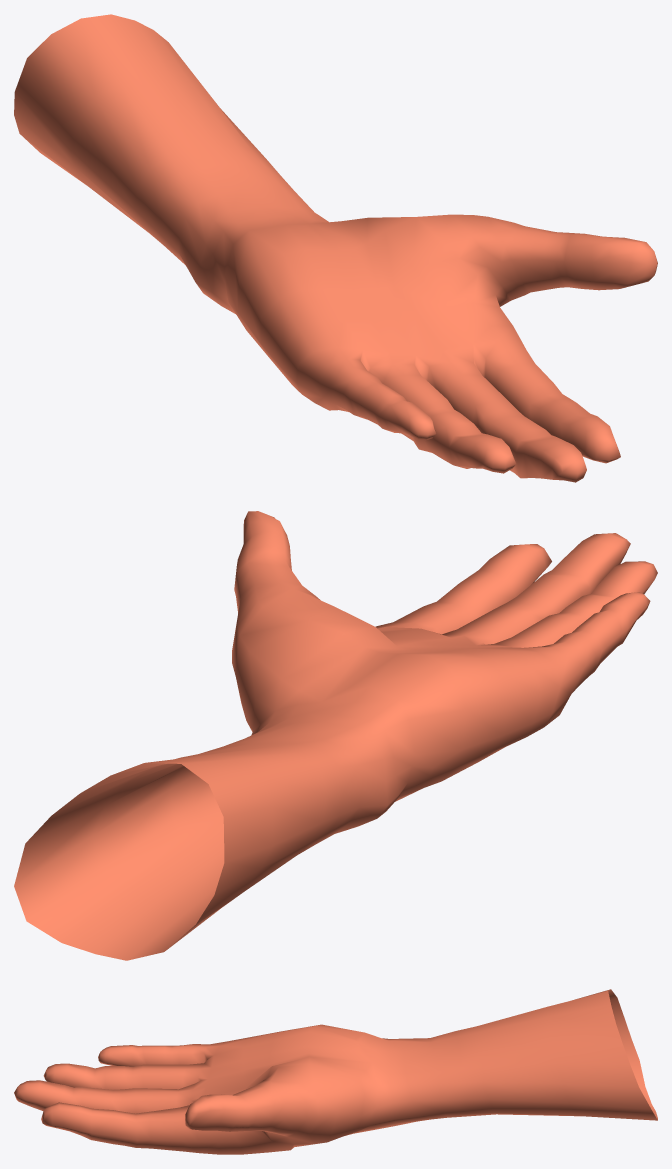
Rendered from 1_4_HandSmoothLeftFront.obj.
3 renders of one model, top to bottom at view 1: azimuth 30°, elevation 25°; view 2: azimuth 150°, elevation 25°; view 3: azimuth 270°, elevation 25°, orthographic. The views are drawn at different scales.
Visible parts, largest first — view 1: hand_femme_polySurface1.003; view 2: hand_femme_polySurface1.003; view 3: hand_femme_polySurface1.003.
Part boxes in pixels (x1,y1,x2,y2): hand_femme_polySurface1.003: (14, 14, 657, 482); hand_femme_polySurface1.003: (14, 511, 657, 960); hand_femme_polySurface1.003: (14, 989, 657, 1154).
Bounding box in the file's own units: 0.0733 × 0.042 × 0.1908.
